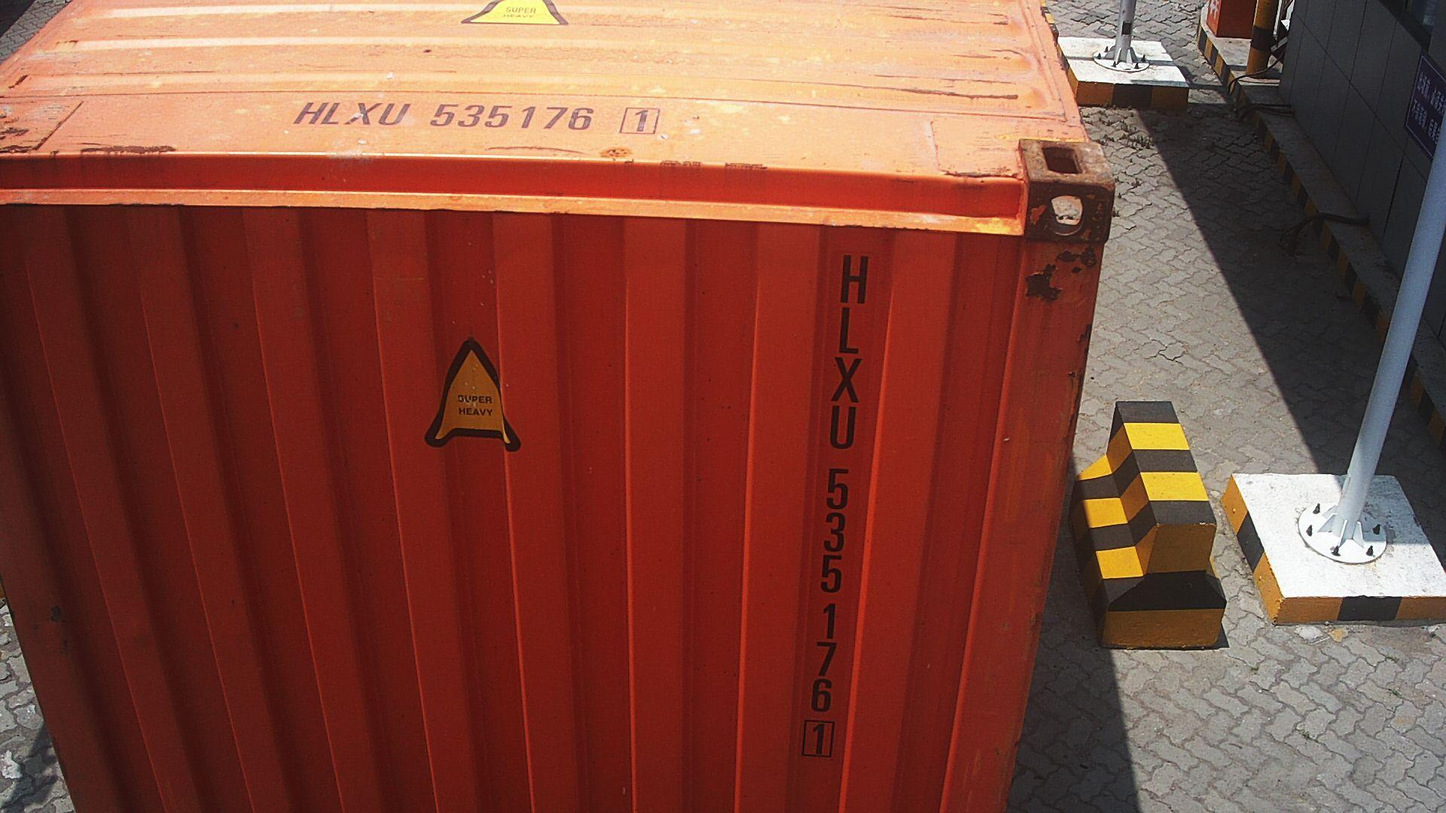container-numbers: (797, 248, 877, 764), (280, 95, 672, 141)
